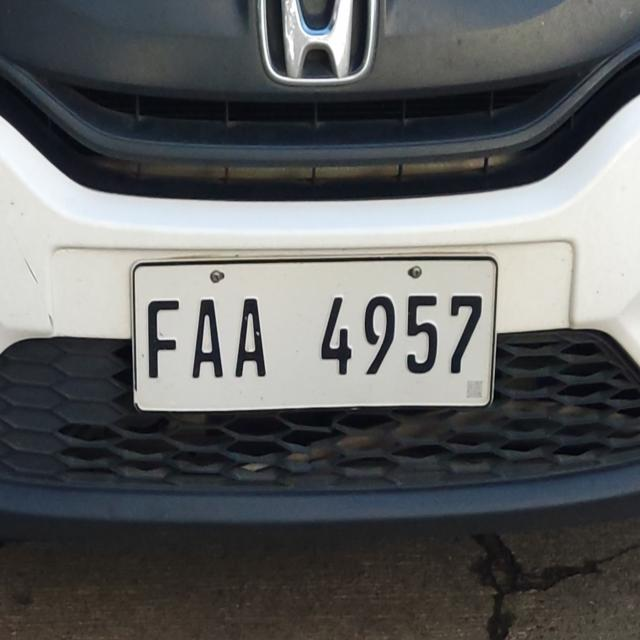plate: (120, 243, 508, 423)
